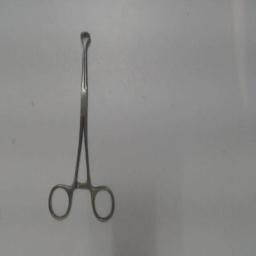Babcock Tissue Forceps: (47, 28, 117, 224)
